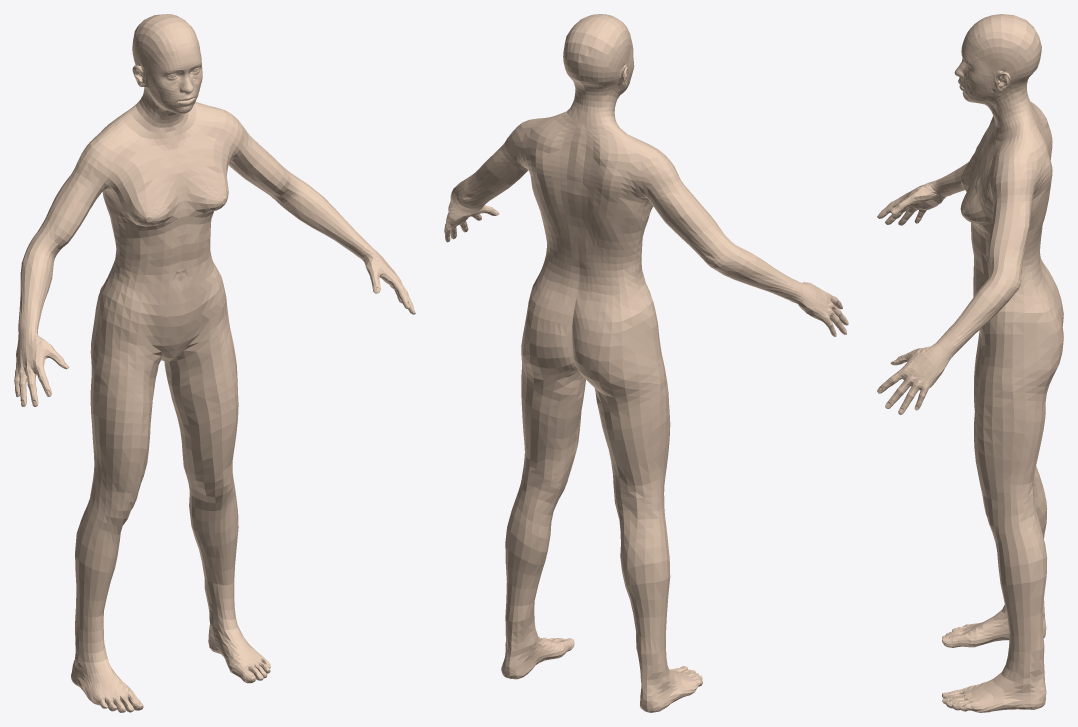
File: female-mature-fit-high.glb
The picture shows the model from 3 angles, left to right: view 1: azimuth 30°, elevation 25°; view 2: azimuth 150°, elevation 25°; view 3: azimuth 270°, elevation 25°; orthographic projection.
Visible parts, largest first — view 1: world; view 2: world; view 3: world.
Part boxes in pixels (<box>): world: <box>14,14,415,712</box>; world: <box>444,14,848,712</box>; world: <box>877,14,1063,712</box>.
Size of the model in its own units: 1.12 by 1.81 by 0.4655.
